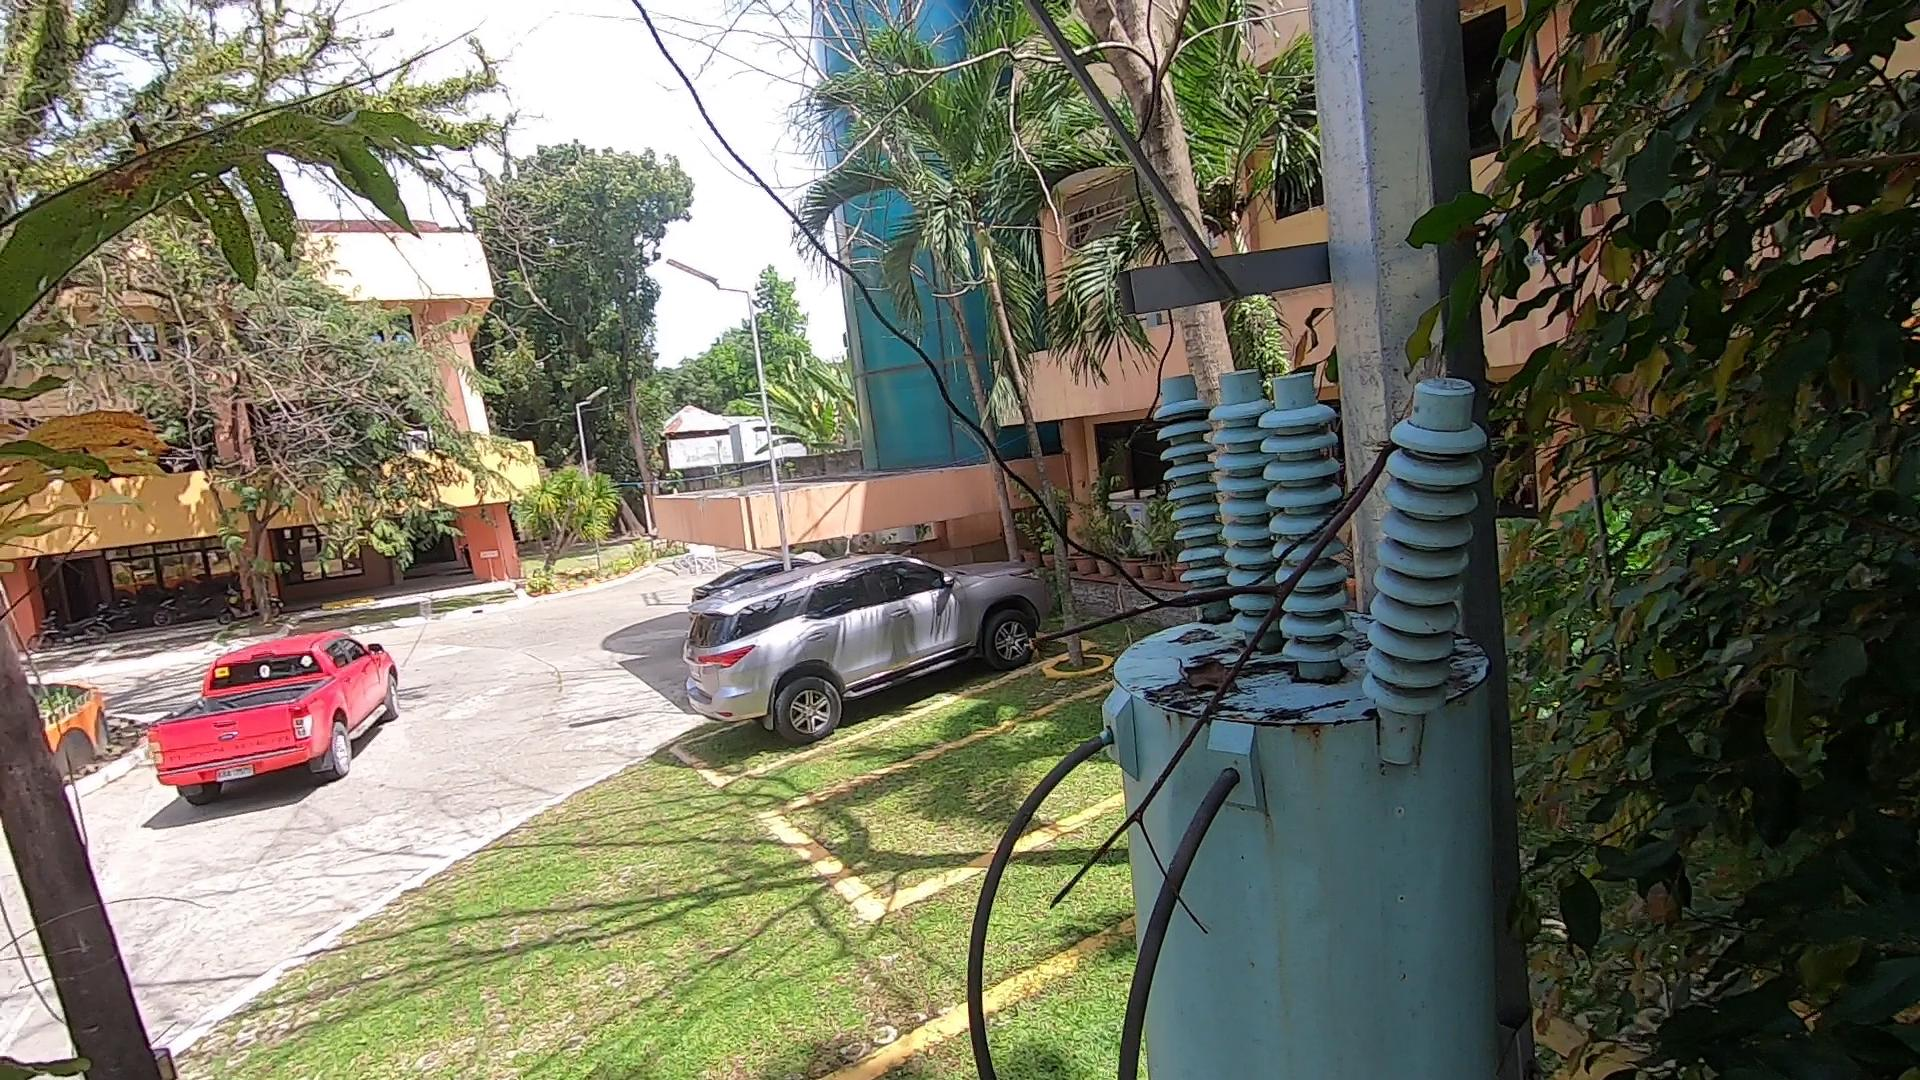leaf: (1170, 653, 1261, 709)
tree branch: (1011, 464, 1499, 949)
